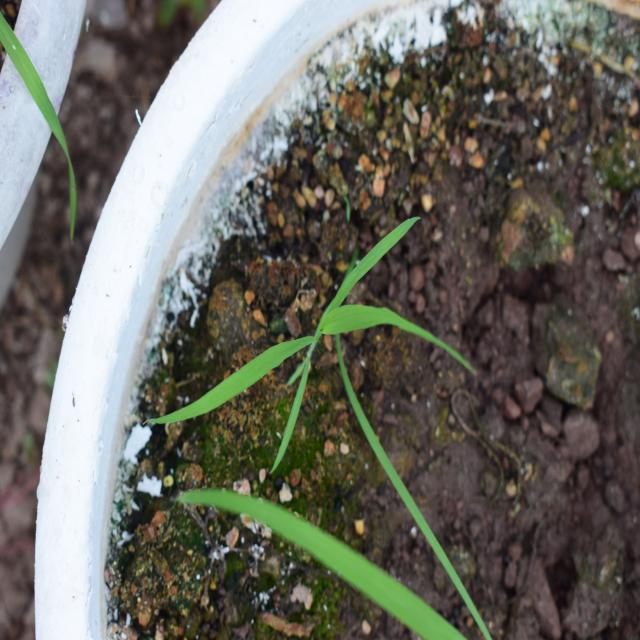barnyard_grass: (123, 207, 466, 540)
